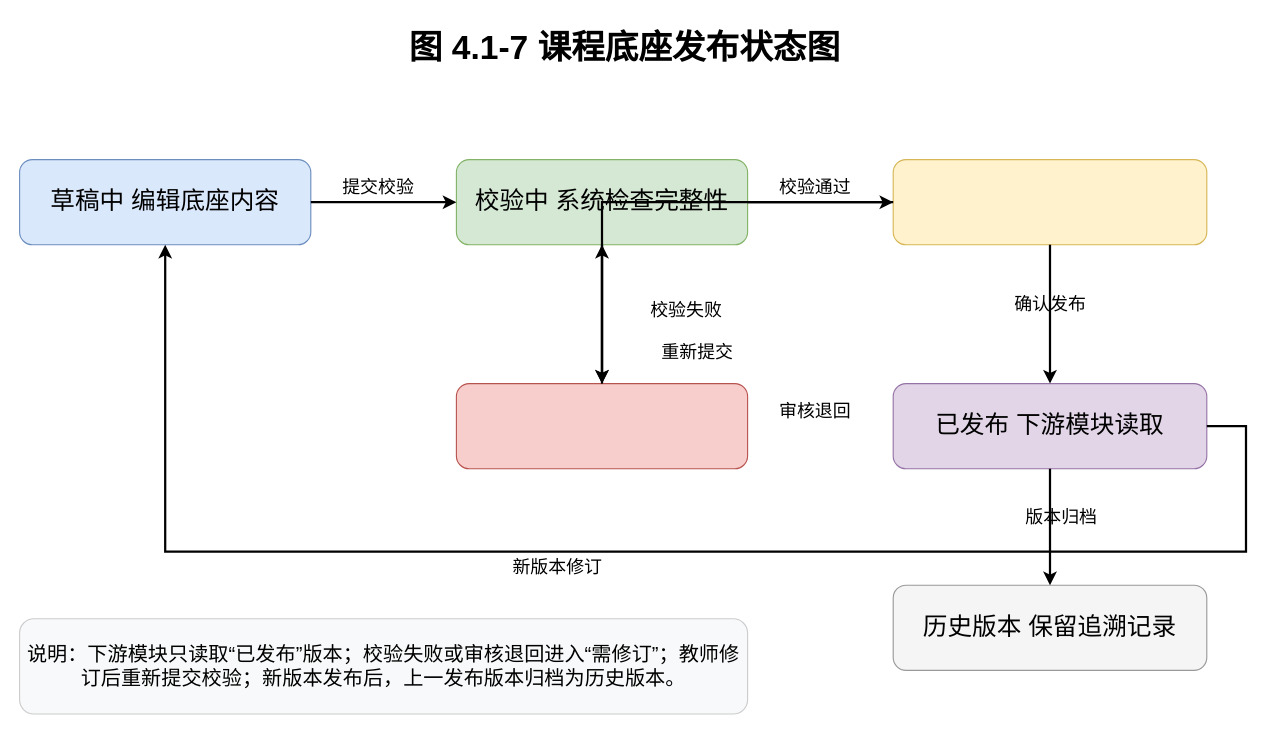
Some shapes in this 1276 by 734 pixel diagram are drawn without their labels. Each missing label, with the box of its shape:
待审核 教师复核发布内容: (892, 158, 1207, 245)
需修订 返回教师工作区: (455, 382, 748, 469)
